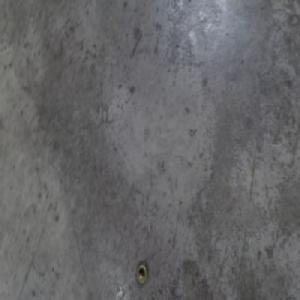Nut: (135, 261, 148, 286)
